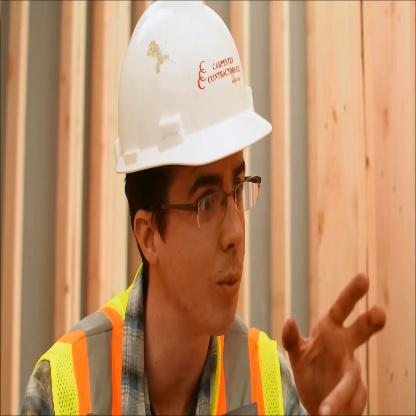helmet: (102, 0, 276, 352)
